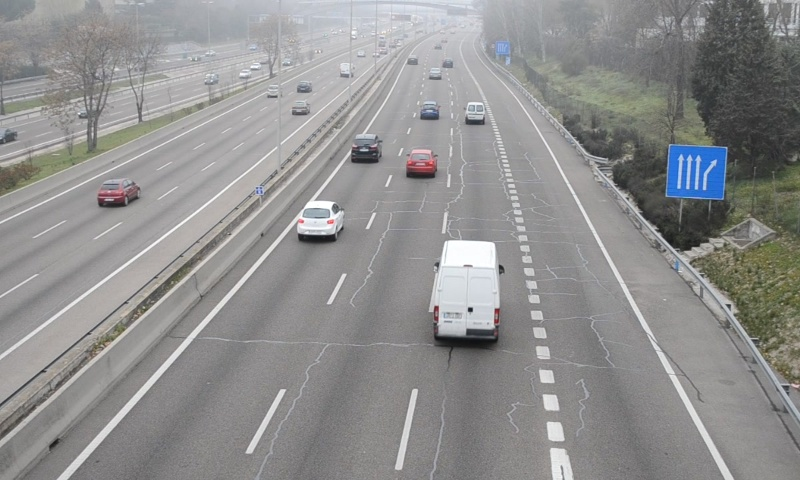car: (296, 200, 344, 237), (351, 134, 381, 162), (406, 149, 436, 176), (419, 101, 440, 120)
van: (433, 240, 500, 341), (464, 101, 486, 126)
